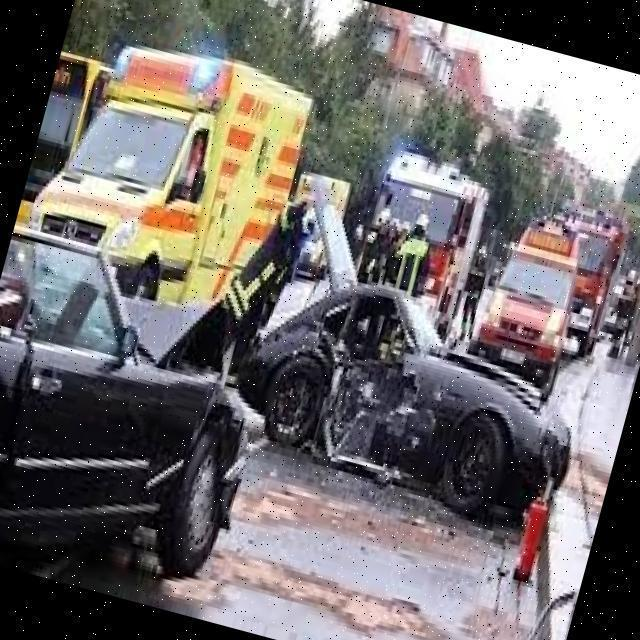accident: (198, 235, 602, 551), (0, 205, 303, 590)
